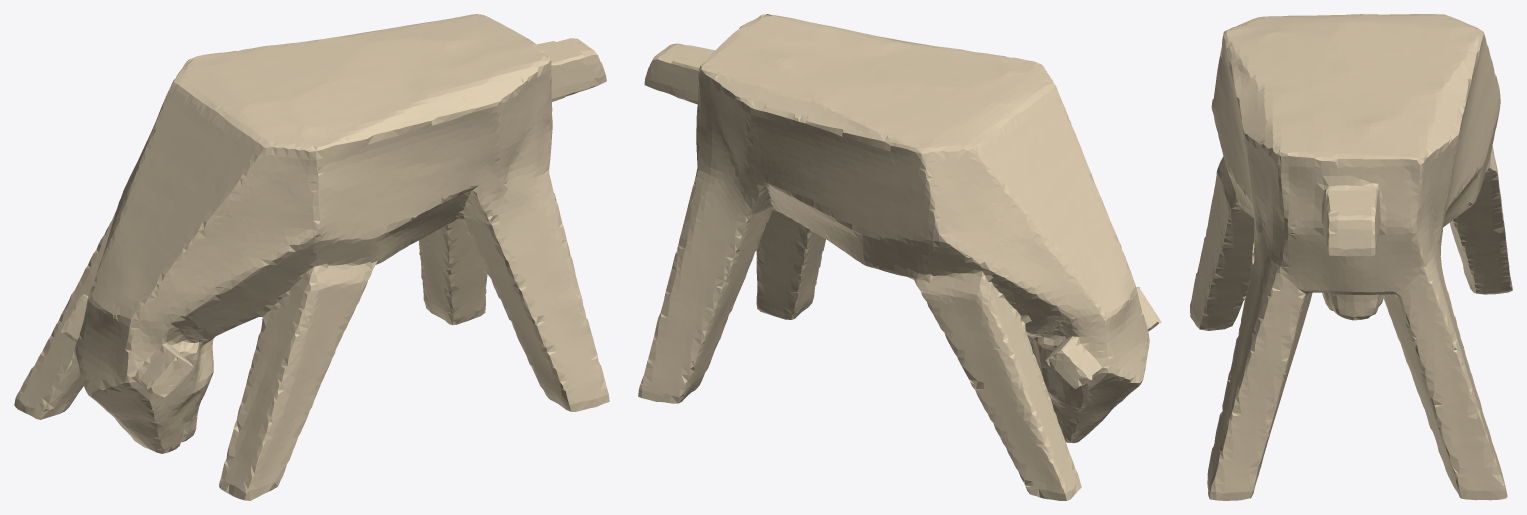
File: sau-01.glb
3 views of the same model, side by side, from view 1: azimuth 30°, elevation 25°; view 2: azimuth 150°, elevation 25°; view 3: azimuth 270°, elevation 25° (orthographic). The views are drawn at different scales.
Visible parts, largest first — view 1: sau-01; view 2: sau-01; view 3: sau-01.
Boxes of the visible parts, x1,y1,x2,y2 form: sau-01: [14, 14, 609, 500]; sau-01: [638, 14, 1161, 500]; sau-01: [1190, 14, 1512, 500].
Bounding box in the file's own units: 0.9956 × 0.6132 × 0.5322.
